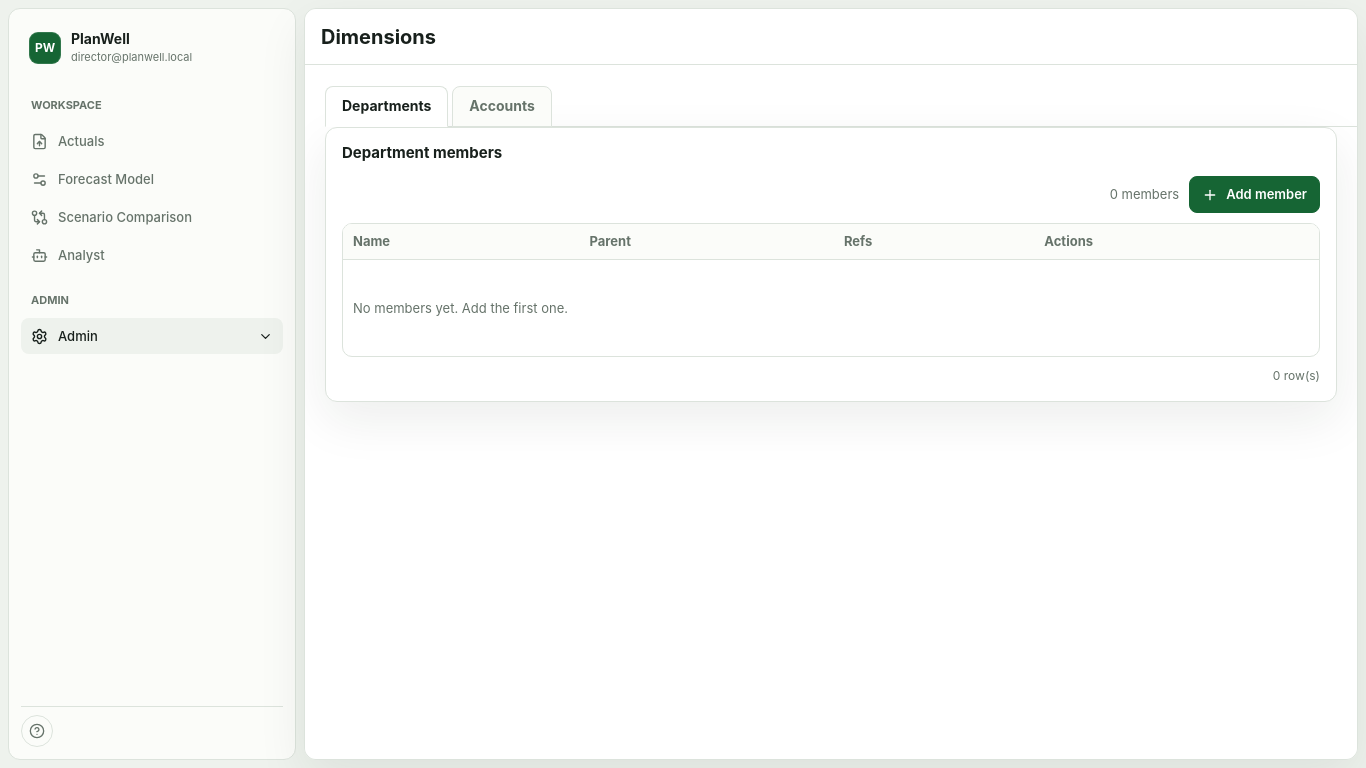
Test: PlanWell workbench UI › shows an HTML ERD-style database schema page
Step 1. Click the button "Admin" → x=78, y=336, box [21,318,283,354]
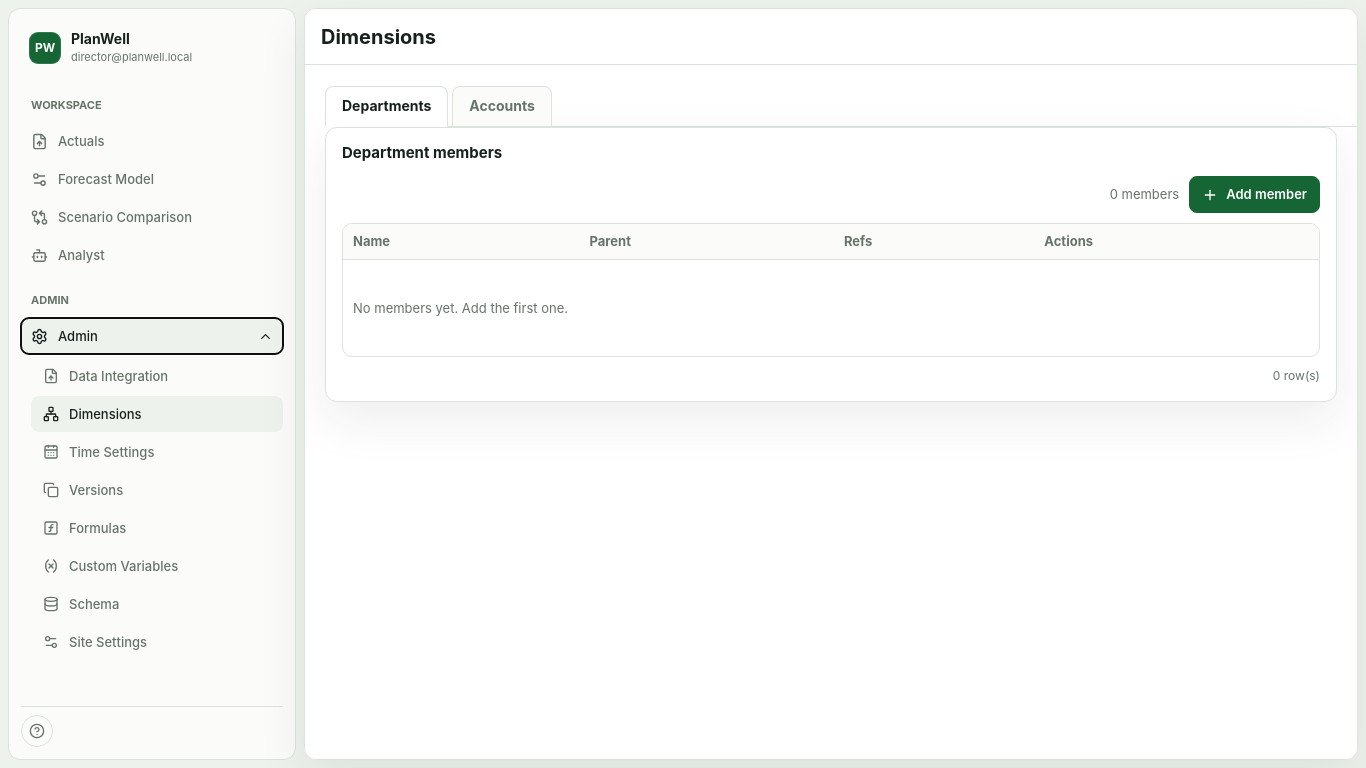
Step 2. Click the button "Schema" → x=157, y=604, box [31,586,283,622]
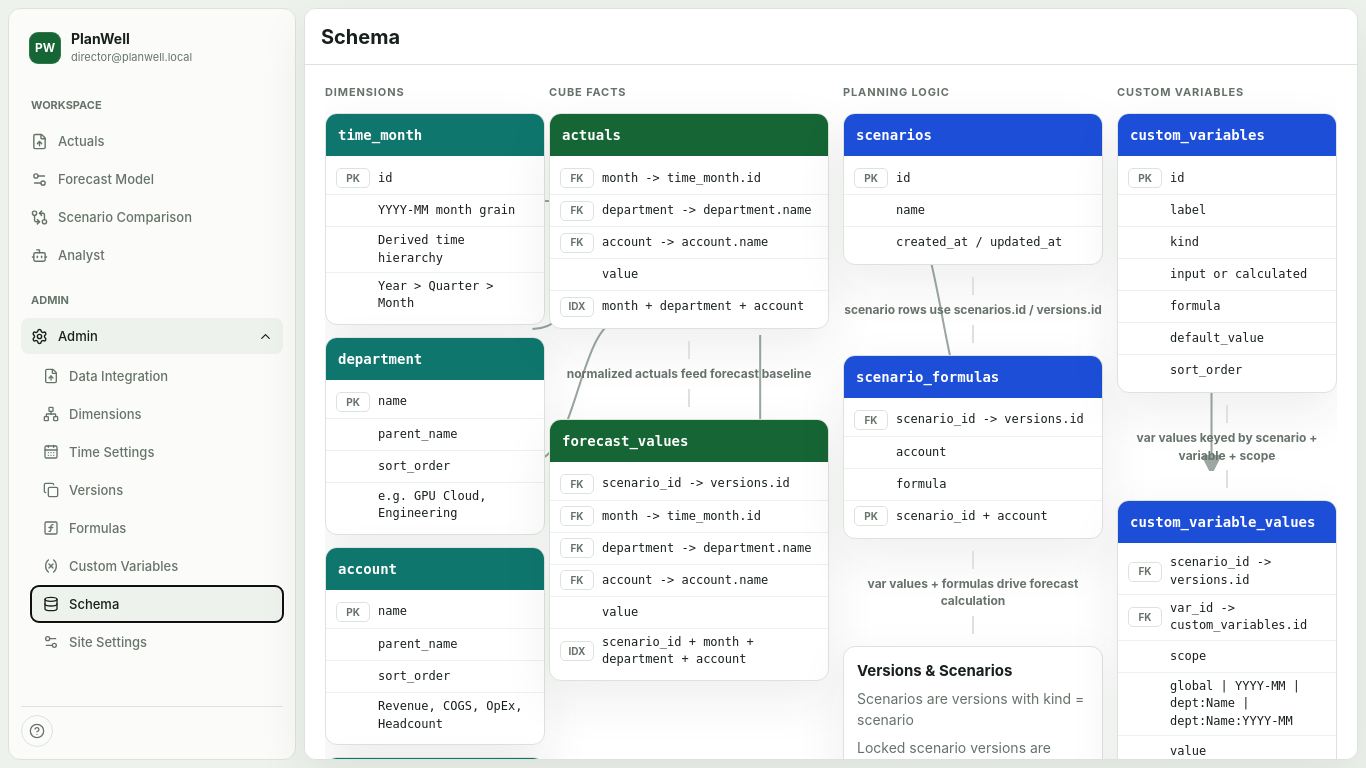
Now the heading "Schema" is shown, box [321,24,400,48]
Now the text "time_month" is shown, box [326,114,544,156]
Now the text "actuals" is shown, box [550,114,828,156]
